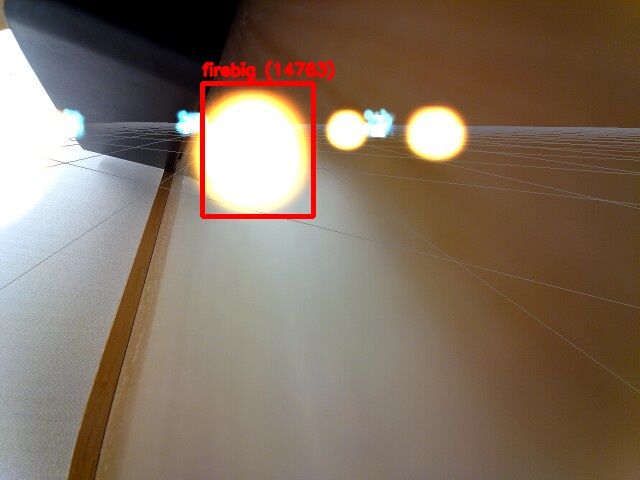firebig: (202, 83, 313, 216)
